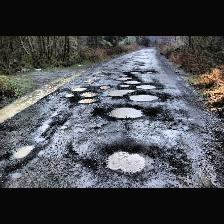pothole: (102, 146, 150, 172), (106, 105, 146, 119), (127, 92, 159, 102), (13, 145, 35, 158), (107, 89, 135, 97), (135, 83, 157, 89), (78, 98, 100, 104), (79, 92, 97, 98), (71, 86, 88, 92), (124, 80, 140, 84), (116, 76, 132, 80), (130, 71, 142, 74), (100, 85, 110, 88)
